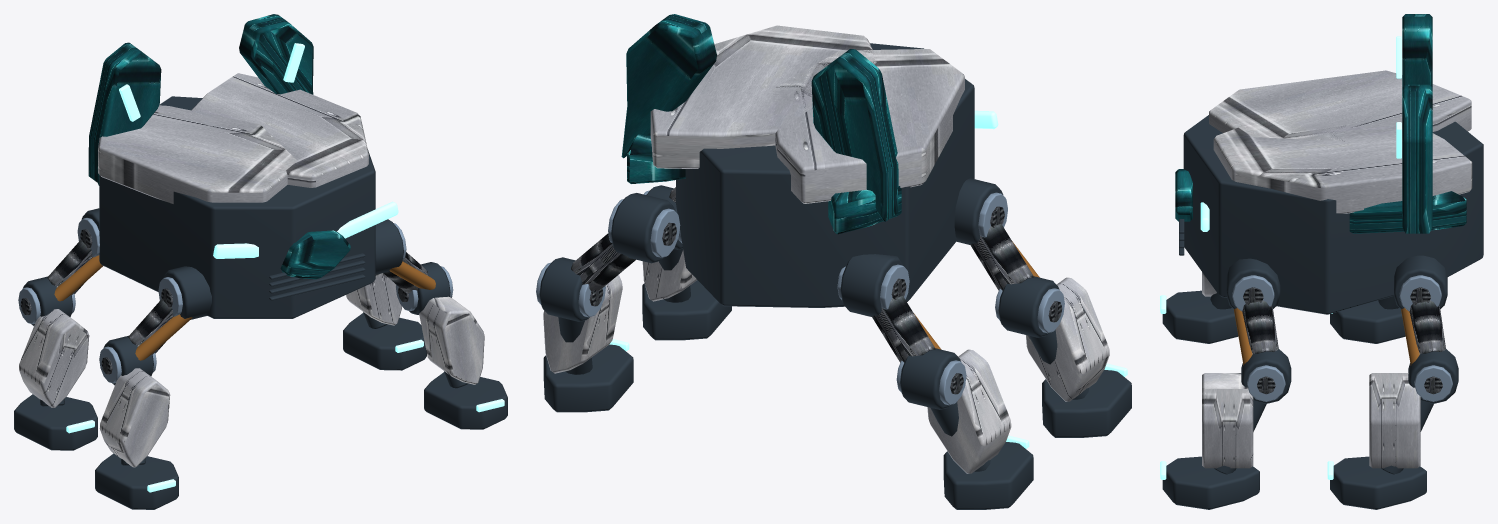
Rendered from quad.glb.
3 renders of one model, left to right at view 1: azimuth 30°, elevation 25°; view 2: azimuth 150°, elevation 25°; view 3: azimuth 270°, elevation 25°, orthographic. The views are drawn at different scales.
Parts seen in each view (by area): view 1: Sloped crawler body, Layered beetle carapace, Swept cobalt shell, Servo housing.002, Servo housing.006, Swept crawler greave, Swept crawler greave.001, Servo housing, Swept crawler greave.003, Servo housing.004, Swept crawler greave.002, Crawler eye (+9 smaller); view 2: Sloped crawler body, Layered beetle carapace, Swept cobalt shell, Servo housing, Servo housing.004, Servo housing.002, Swept crawler greave, Swept crawler greave.001, Servo housing.006, Swept crawler greave.002, Hub, Hub.004 (+5 smaller); view 3: Sloped crawler body, Layered beetle carapace, Swept cobalt shell, Servo housing.004, Servo housing.006, Swept crawler greave.002, Swept crawler greave.003, Servo housing.002, Servo housing, Hub.008, Hub.012, Bearing ring.012 (+4 smaller).
Part boxes in pixels (x1,y1,x2,y2): Sloped crawler body: (99,96,375,318); Layered beetle carapace: (98,73,368,203); Swept cobalt shell: (88,14,350,279); Servo housing.002: (95,266,211,509); Servo housing.006: (375,219,507,429); Swept crawler greave: (19,309,89,407); Swept crawler greave.001: (99,368,170,467); Servo housing: (14,208,99,450); Swept crawler greave.003: (419,296,484,384); Servo housing.004: (343,312,426,370); Swept crawler greave.002: (346,273,401,325); Crawler eye: (213,201,398,258); Sloped crawler body: (676,43,974,307); Layered beetle carapace: (650,25,964,203); Swept cobalt shell: (621,14,901,234); Servo housing: (840,254,1033,509); Servo housing.004: (539,193,675,412); Servo housing.002: (954,178,1131,437); Swept crawler greave: (927,349,1011,473); Swept crawler greave.001: (1026,277,1109,401); Servo housing.006: (642,185,731,340); Swept crawler greave.002: (543,274,622,373); Hub: (871,278,963,394); Hub.004: (970,206,1062,322); Sloped crawler body: (1179,115,1483,314); Layered beetle carapace: (1209,70,1472,213); Swept cobalt shell: (1175,14,1466,233); Servo housing.004: (1330,255,1458,509); Servo housing.006: (1162,258,1291,509); Swept crawler greave.002: (1369,373,1420,468); Swept crawler greave.003: (1202,373,1253,468); Servo housing.002: (1162,290,1238,343); Servo housing: (1330,296,1405,343); Hub.008: (1409,287,1445,394); Hub.012: (1242,287,1278,394); Bearing ring.012: (1232,275,1285,401).
Bounding box in the file's own units: 1.46 × 1.24 × 1.
Materials: 8 (3 with a texture image).
